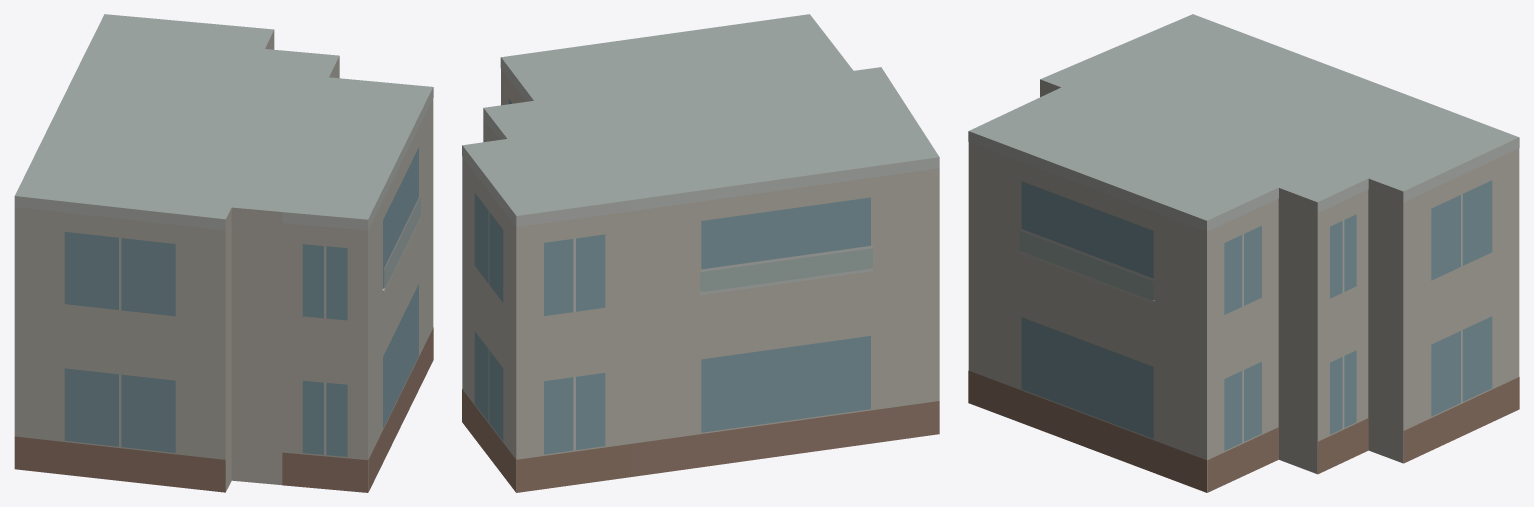
Rendered from survey-upis-33039097.glb.
3 views of the same model, side by side, from view 1: azimuth 30°, elevation 25°; view 2: azimuth 150°, elevation 25°; view 3: azimuth 270°, elevation 25° (orthographic).
Parts seen in each view (by area): view 1: survey-upis-33039097.tmp; view 2: survey-upis-33039097.tmp; view 3: survey-upis-33039097.tmp.
Boxes of the visible parts, x1=… form: survey-upis-33039097.tmp: x1=14, y1=14, x2=433, y2=492; survey-upis-33039097.tmp: x1=462, y1=14, x2=939, y2=492; survey-upis-33039097.tmp: x1=968, y1=14, x2=1519, y2=492.
Bounding box in the file's own units: 9.96 × 6.1 × 11.2.
